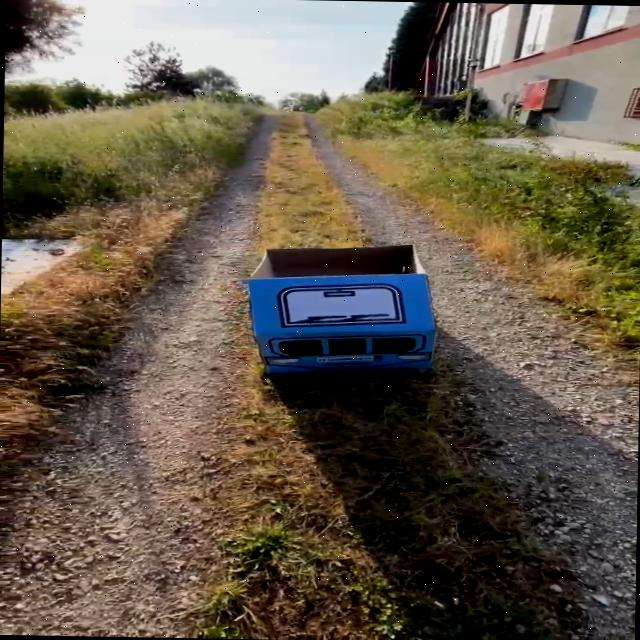blue_car: (219, 228, 502, 400)
